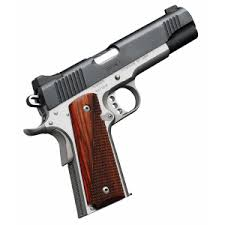gun: (23, 4, 199, 219)
